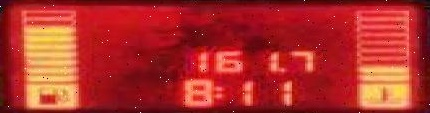-: (276, 66, 284, 72)
1: (237, 77, 255, 106), (279, 77, 294, 106), (193, 48, 208, 72), (263, 48, 276, 74)
6: (211, 48, 239, 72)
7: (289, 48, 315, 71)
8: (180, 76, 211, 106)
X: (211, 83, 221, 99)
